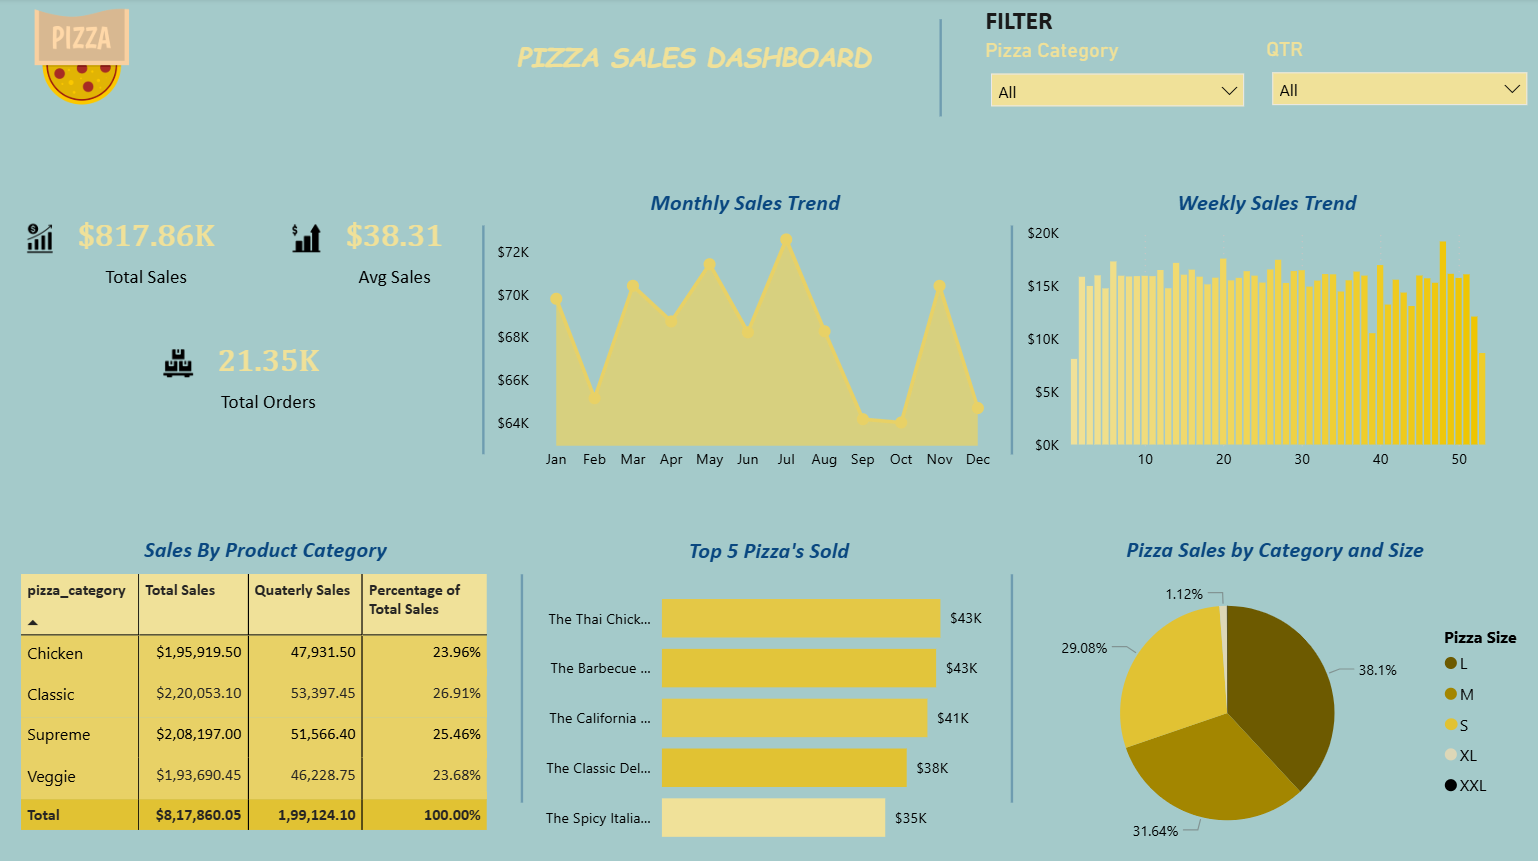

This screenshot's page, from the dashboard's own definition file:
{"tool":"powerbi","page":{"name":"Page 1","canvas":[1280,720],"ordinal":0},"visuals":[{"type":"image","box":[0,0,137.2,97.7],"z":0},{"type":"lineChart","title":"Monthly Sales Trend","fields":{"Category":["Date Table.Month Name"],"Y":["Sum(pizza_sales.total_price)"]},"box":[413.6,153.8,413.6,247.3],"z":1000},{"type":"textbox","box":[328.4,14.5,498.8,97.7],"z":2000},{"type":"columnChart","title":"Weekly Sales Trend","fields":{"Category":["Date Table.Week"],"Y":["Sum(pizza_sales.total_price)"]},"box":[854.3,153.8,400.1,247.3],"z":3000},{"type":"pivotTable","title":"Sales By Product Category","fields":{"Rows":["pizza_sales.pizza_category"],"Values":["pizza_sales.Total Sales","pizza_sales.Quaterly Sales","Divide(pizza_sales.Total Sales, ScopedEval(pizza_sales.Total Sales, []))"]},"box":[14,436,416.3,262.8],"z":4000},{"type":"cardVisual","fields":{"Data":["pizza_sales.Total Sales"]},"box":[0,153.8,201.6,121.6],"z":5000},{"type":"cardVisual","fields":{"Data":["pizza_sales.Total Orders"]},"box":[117.4,257.7,168.4,121.6],"z":6000},{"type":"cardVisual","fields":{"Data":["pizza_sales.Avg Sales"]},"box":[222.4,153.8,168.4,121.6],"z":7000},{"type":"shape","box":[738.9,17.7,88.3,81.1],"z":8000},{"type":"slicer","title":"Pizza Category","fields":{"Values":["pizza_sales.pizza_category"]},"box":[820,33.3,225.5,65.5],"z":9000},{"type":"slicer","title":"Qtr","fields":{"Values":["Date Table.Qtr"]},"box":[1053.5,32.6,226.7,65.1],"z":10000},{"type":"barChart","title":"Top 5 Pizza''s Sold","fields":{"Category":["pizza_sales.pizza_name"],"Y":["pizza_sales.Total Sales"]},"box":[436,437.2,405.8,282.6],"z":11000},{"type":"pieChart","title":"Pizza Sales by Category and Size","fields":{"Category":["pizza_sales.pizza_size"],"Y":["CountNonNull(pizza_sales.pizza_category)"]},"box":[841.8,436.5,438.6,283.7],"z":12000},{"type":"shape","box":[359.6,189.1,86.3,190.2],"z":13000},{"type":"shape","box":[390.7,479.1,88.4,190.7],"z":14000},{"type":"shape","box":[797.7,479.1,88.4,190.7],"z":15000},{"type":"shape","box":[798.2,189.1,88.3,190.2],"z":16000},{"type":"shape","title":"FILTER","box":[820,5,117.4,25],"z":17000}]}

Visuals, with their boxes in screenshot pixels (x1, y1, x2, y2), scaled from the page's 1280x720 canvas onto the 1538x861 screenshot:
image: [0,0,165,117]
"Monthly Sales Trend" lineChart: [497,184,994,480]
textbox: [395,17,994,134]
"Weekly Sales Trend" columnChart: [1026,184,1507,480]
"Sales By Product Category" pivotTable: [17,521,517,836]
cardVisual - pizza_sales.Total Sales: [0,184,242,329]
cardVisual - pizza_sales.Total Orders: [141,308,343,454]
cardVisual - pizza_sales.Avg Sales: [267,184,470,329]
shape: [888,21,994,118]
"Pizza Category" slicer: [985,40,1256,118]
"Qtr" slicer: [1266,39,1537,117]
"Top 5 Pizza''s Sold" barChart: [524,523,1011,860]
"Pizza Sales by Category and Size" pieChart: [1011,522,1537,860]
shape: [432,226,536,454]
shape: [469,573,576,801]
shape: [958,573,1065,801]
shape: [959,226,1065,454]
"FILTER" shape: [985,6,1126,36]
